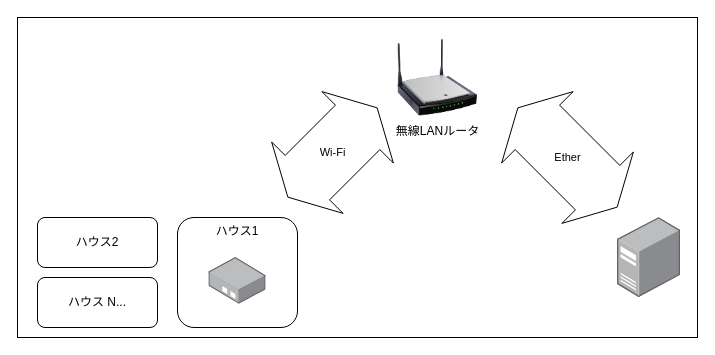
This 715x355 diagram has some shape labels left out. Each missing label, with the centre of its shape:
サーバ: point (648, 257)
巻上げシステム: point (237, 280)
